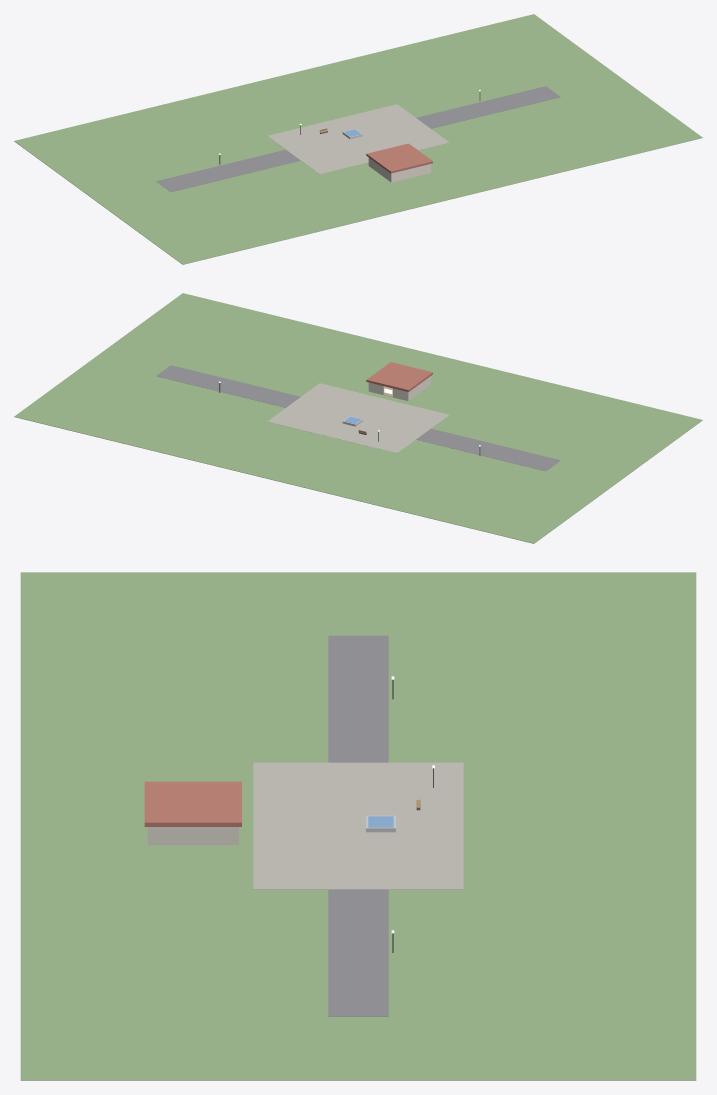
The model's file is town.glb.
3 renders of one model, top to bottom at view 1: azimuth 30°, elevation 25°; view 2: azimuth 150°, elevation 25°; view 3: azimuth 270°, elevation 25°, orthographic. The views are drawn at different scales.
Parts seen in each view (by area): view 1: ground, floor:square, floor:street_west, floor:street_east, ext:cafe_roof; view 2: ground, floor:square, floor:street_west, floor:street_east, ext:cafe_roof; view 3: ground, floor:square, floor:street_west, floor:street_east, ext:cafe_roof, wall:cafe.
Boxes of the visible parts, <box> form: ground: <box>14,14,702,264</box>; floor:square: <box>267,104,449,174</box>; floor:street_west: <box>156,149,300,192</box>; floor:street_east: <box>416,86,560,128</box>; ext:cafe_roof: <box>366,143,432,173</box>; ground: <box>14,293,702,543</box>; floor:square: <box>267,383,449,453</box>; floor:street_west: <box>416,428,560,471</box>; floor:street_east: <box>156,365,300,407</box>; ext:cafe_roof: <box>366,362,432,391</box>; ground: <box>20,572,696,1080</box>; floor:square: <box>253,762,463,889</box>; floor:street_west: <box>328,635,388,762</box>; floor:street_east: <box>328,889,388,1016</box>; ext:cafe_roof: <box>144,781,241,826</box>; wall:cafe: <box>148,827,238,845</box>.
Size of the model in its own units: 160 by 3.63 by 90.
